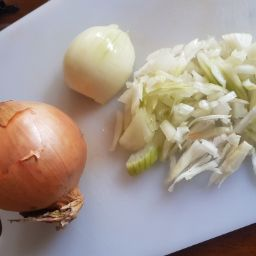Finely chopped onions: (114, 69, 256, 196), (147, 34, 256, 195), (1, 93, 89, 235), (54, 18, 140, 107)
